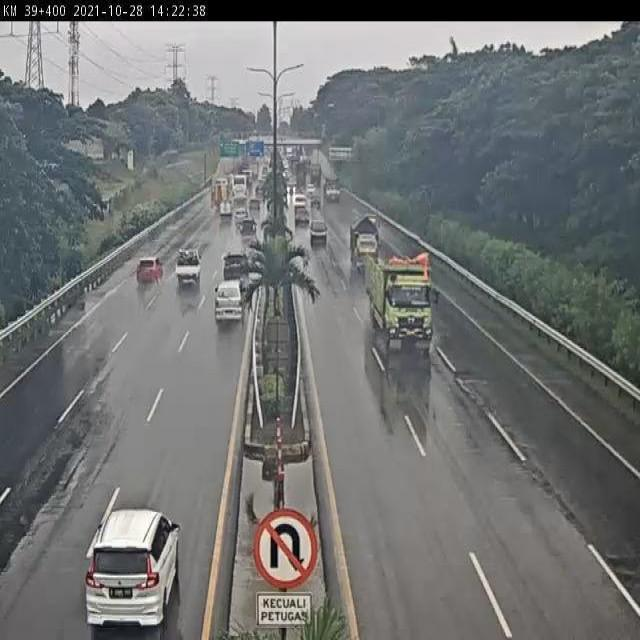car: (86, 509, 180, 627), (175, 247, 201, 283)
truck: (361, 251, 433, 353), (350, 212, 384, 277)
